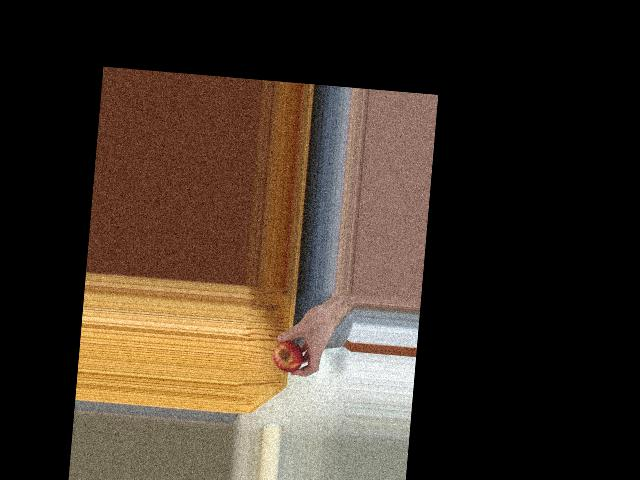apple: (270, 331, 310, 376)
